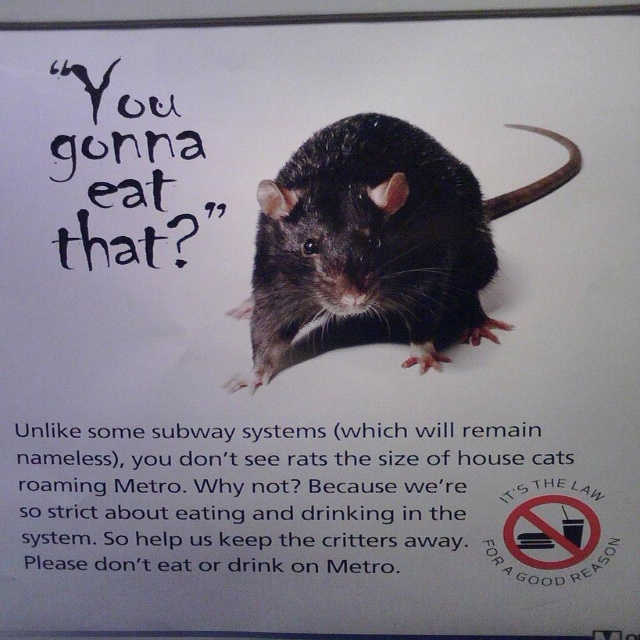Mouse: (221, 115, 584, 388)
